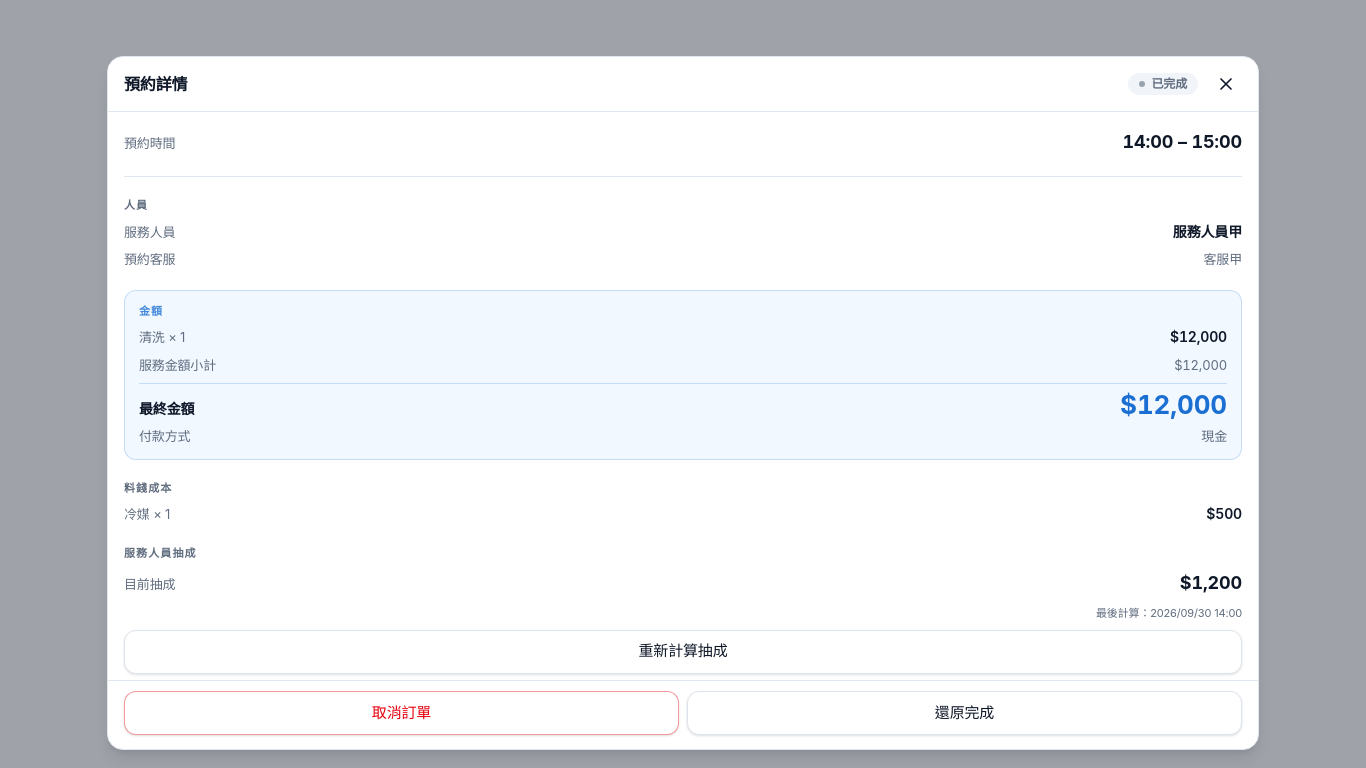
Test: K-6~K-8 確認窗與送出 › 按取消 ⇒ 不呼叫
Click the button with test id "booking-commission-recalculate": [683, 652] box [124,630,1242,674]
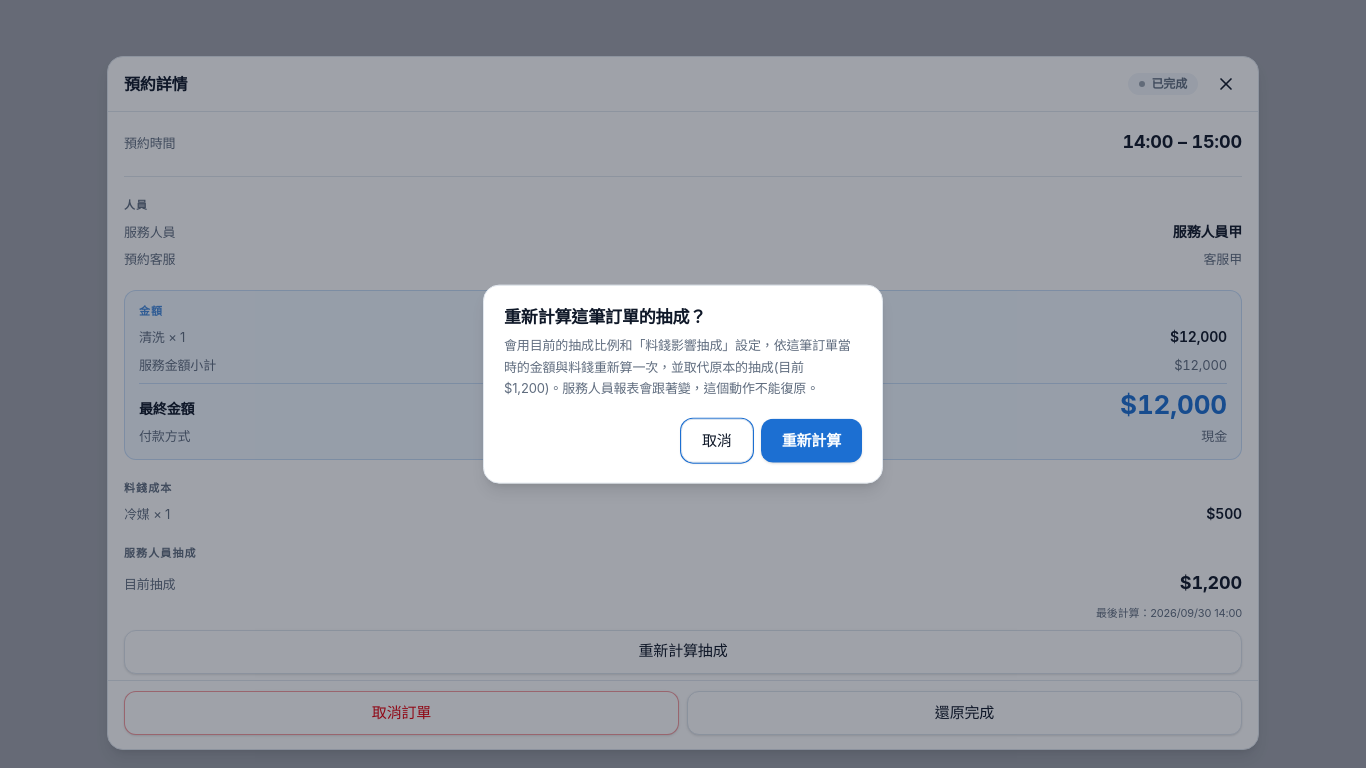
Click the button "取消": [717, 440] box [681,418,753,462]
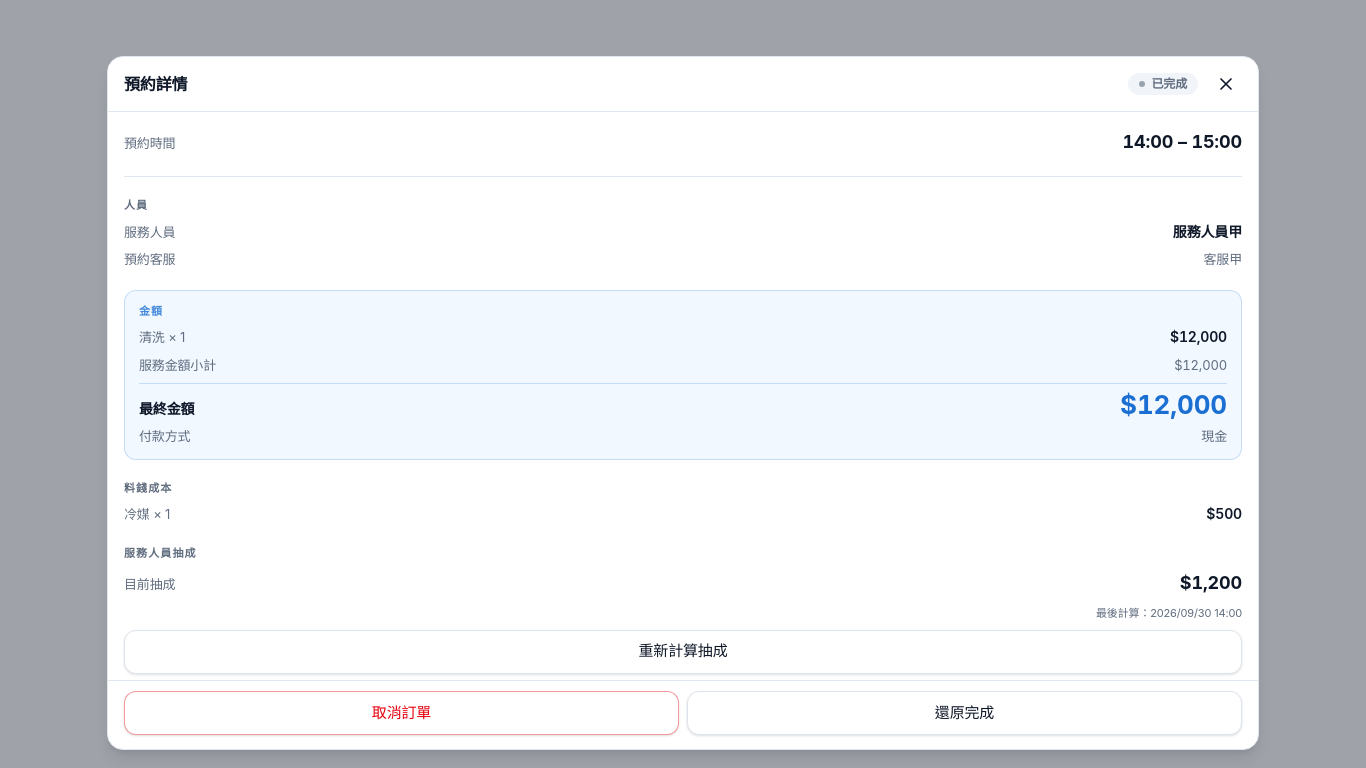
Result: the dialog with test id "booking-commission-confirm" is gone
